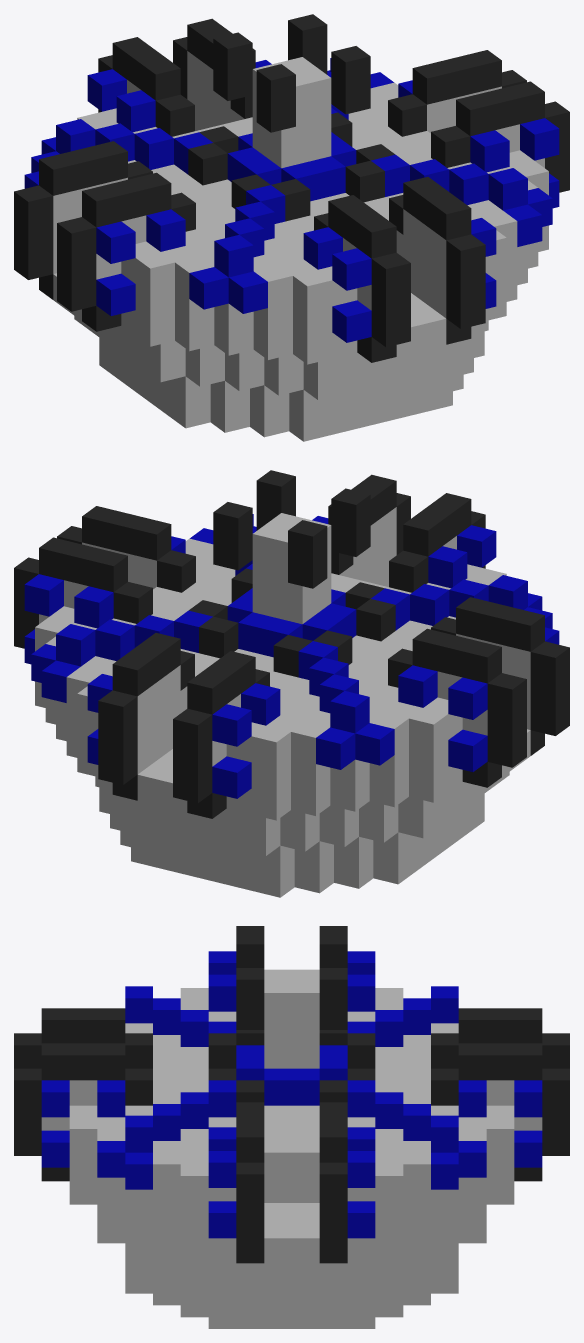
File: slowTowerHead.fbx
3 views of the same model, one above another, from view 1: azimuth 30°, elevation 25°; view 2: azimuth 150°, elevation 25°; view 3: azimuth 270°, elevation 25° (orthographic). The views are drawn at different scales.
Visible parts, largest first — view 1: slowTower_3; view 2: slowTower_3; view 3: slowTower_3.
Boxes of the visible parts, <box> form: slowTower_3: <box>14,14,569,441</box>; slowTower_3: <box>14,470,569,897</box>; slowTower_3: <box>14,926,569,1328</box>.
Bounding box in the file's own units: 20 × 12 × 20.
1 material, 1 textured.
